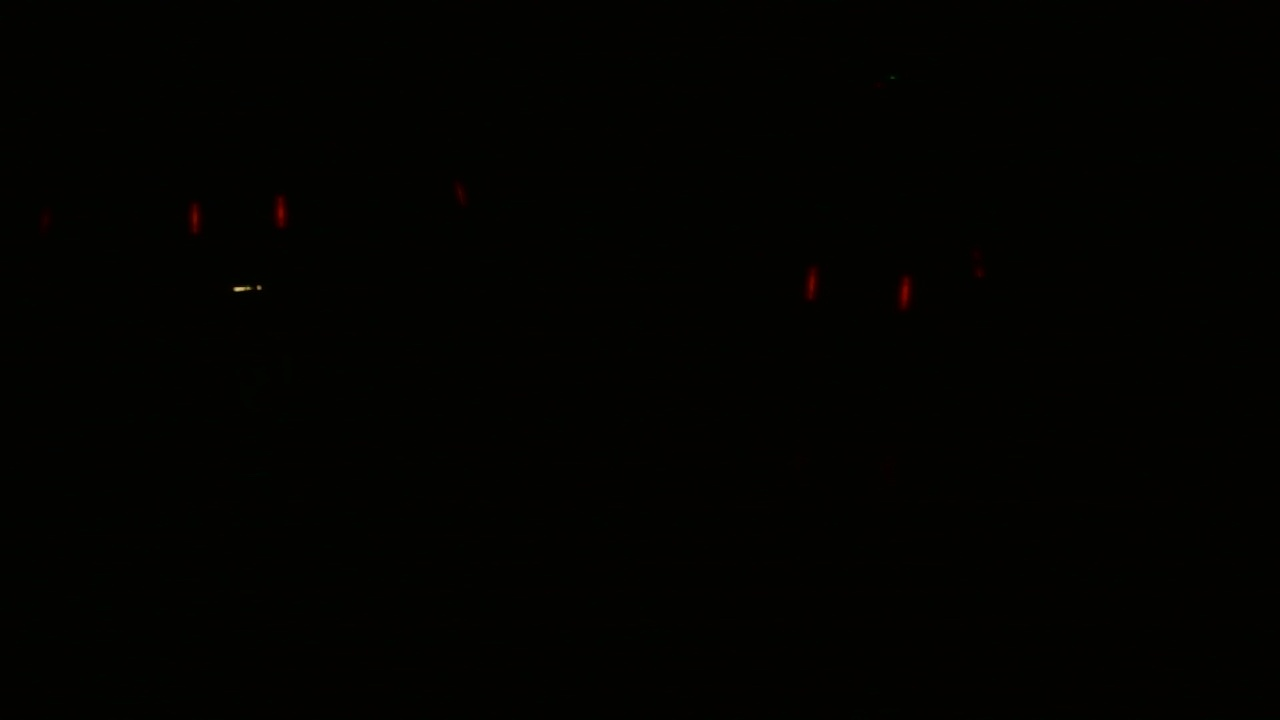pair1: (181, 185, 296, 246)
pair2: (800, 262, 919, 321)
